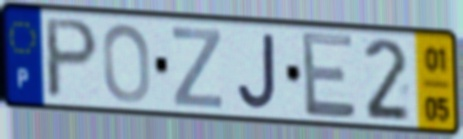2: (361, 36, 414, 123)
E: (298, 28, 359, 120)
J: (235, 31, 279, 112)
O: (100, 20, 153, 105)
P: (43, 15, 102, 102)
Z: (170, 24, 224, 111)
